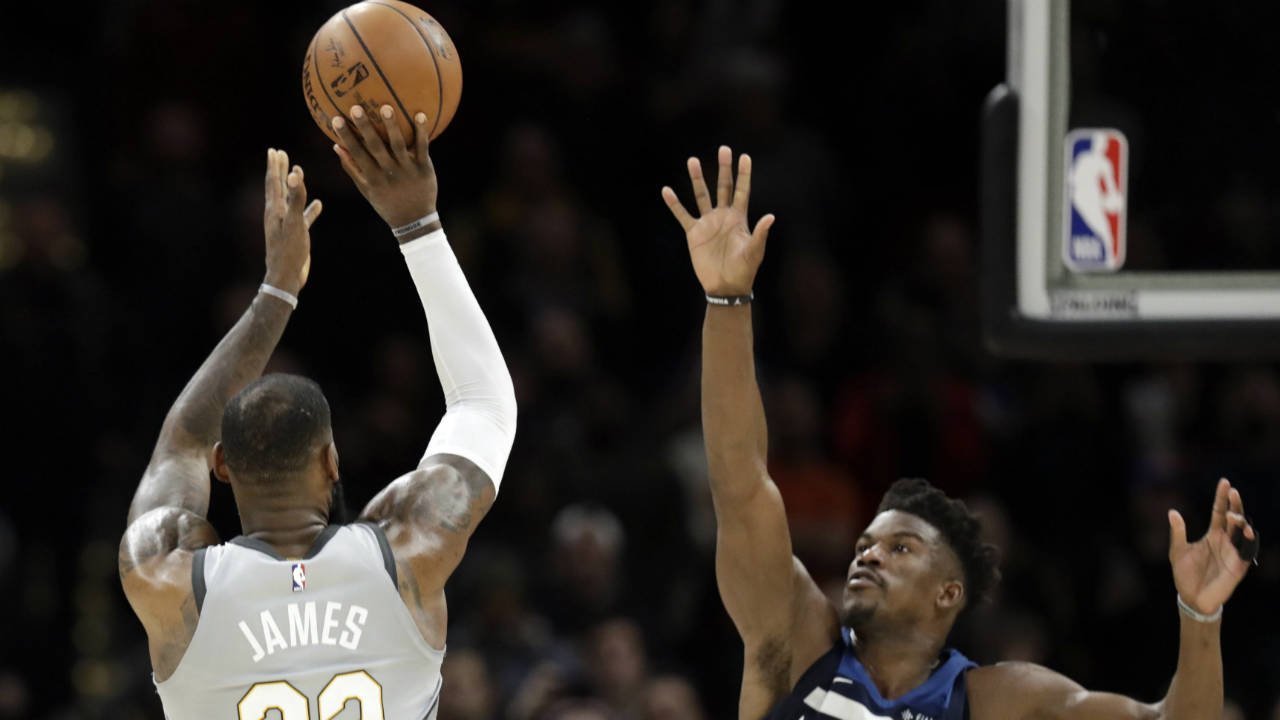Basketball: (298, 1, 463, 147)
